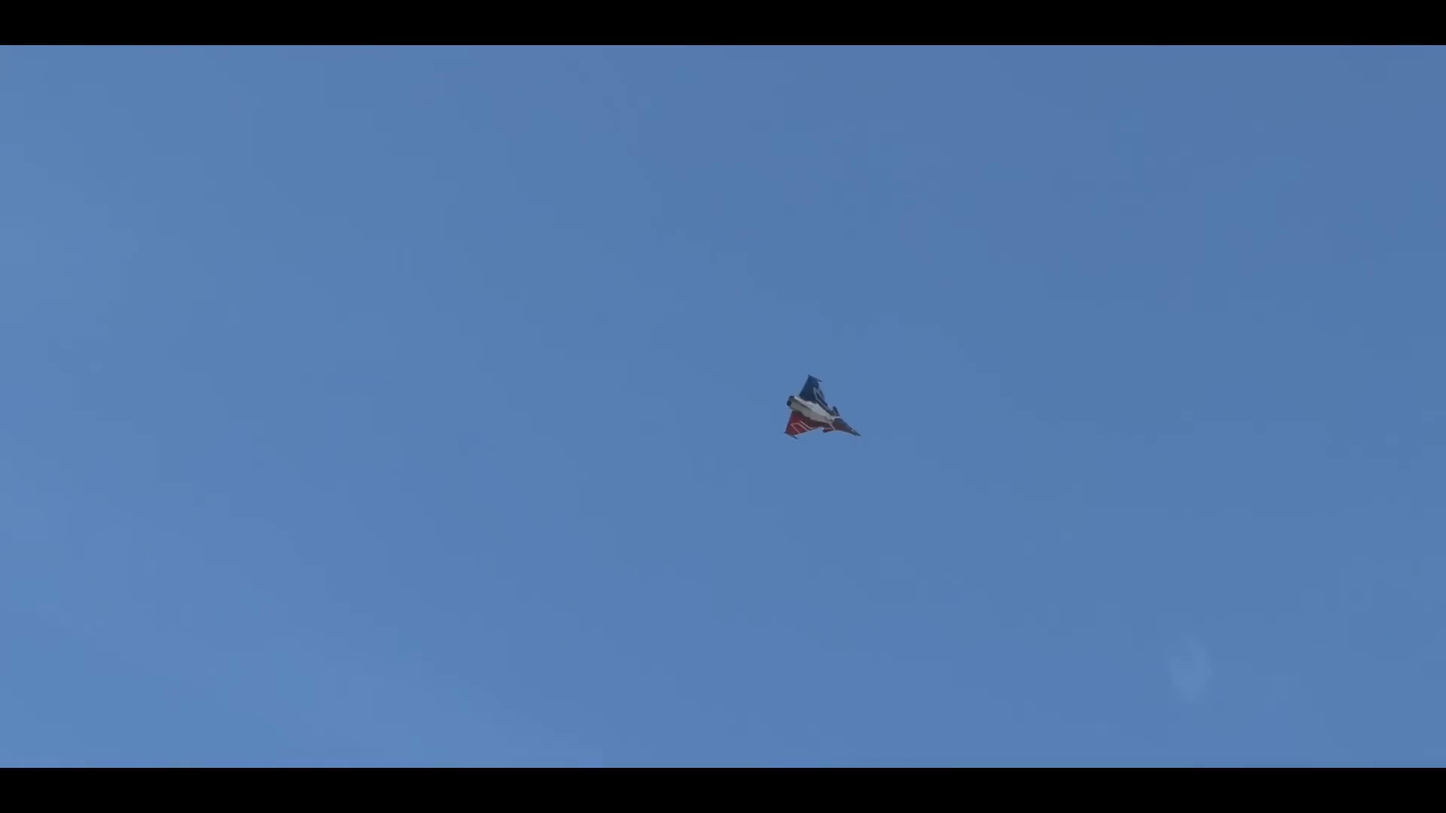Rafale: (772, 369, 871, 453)
